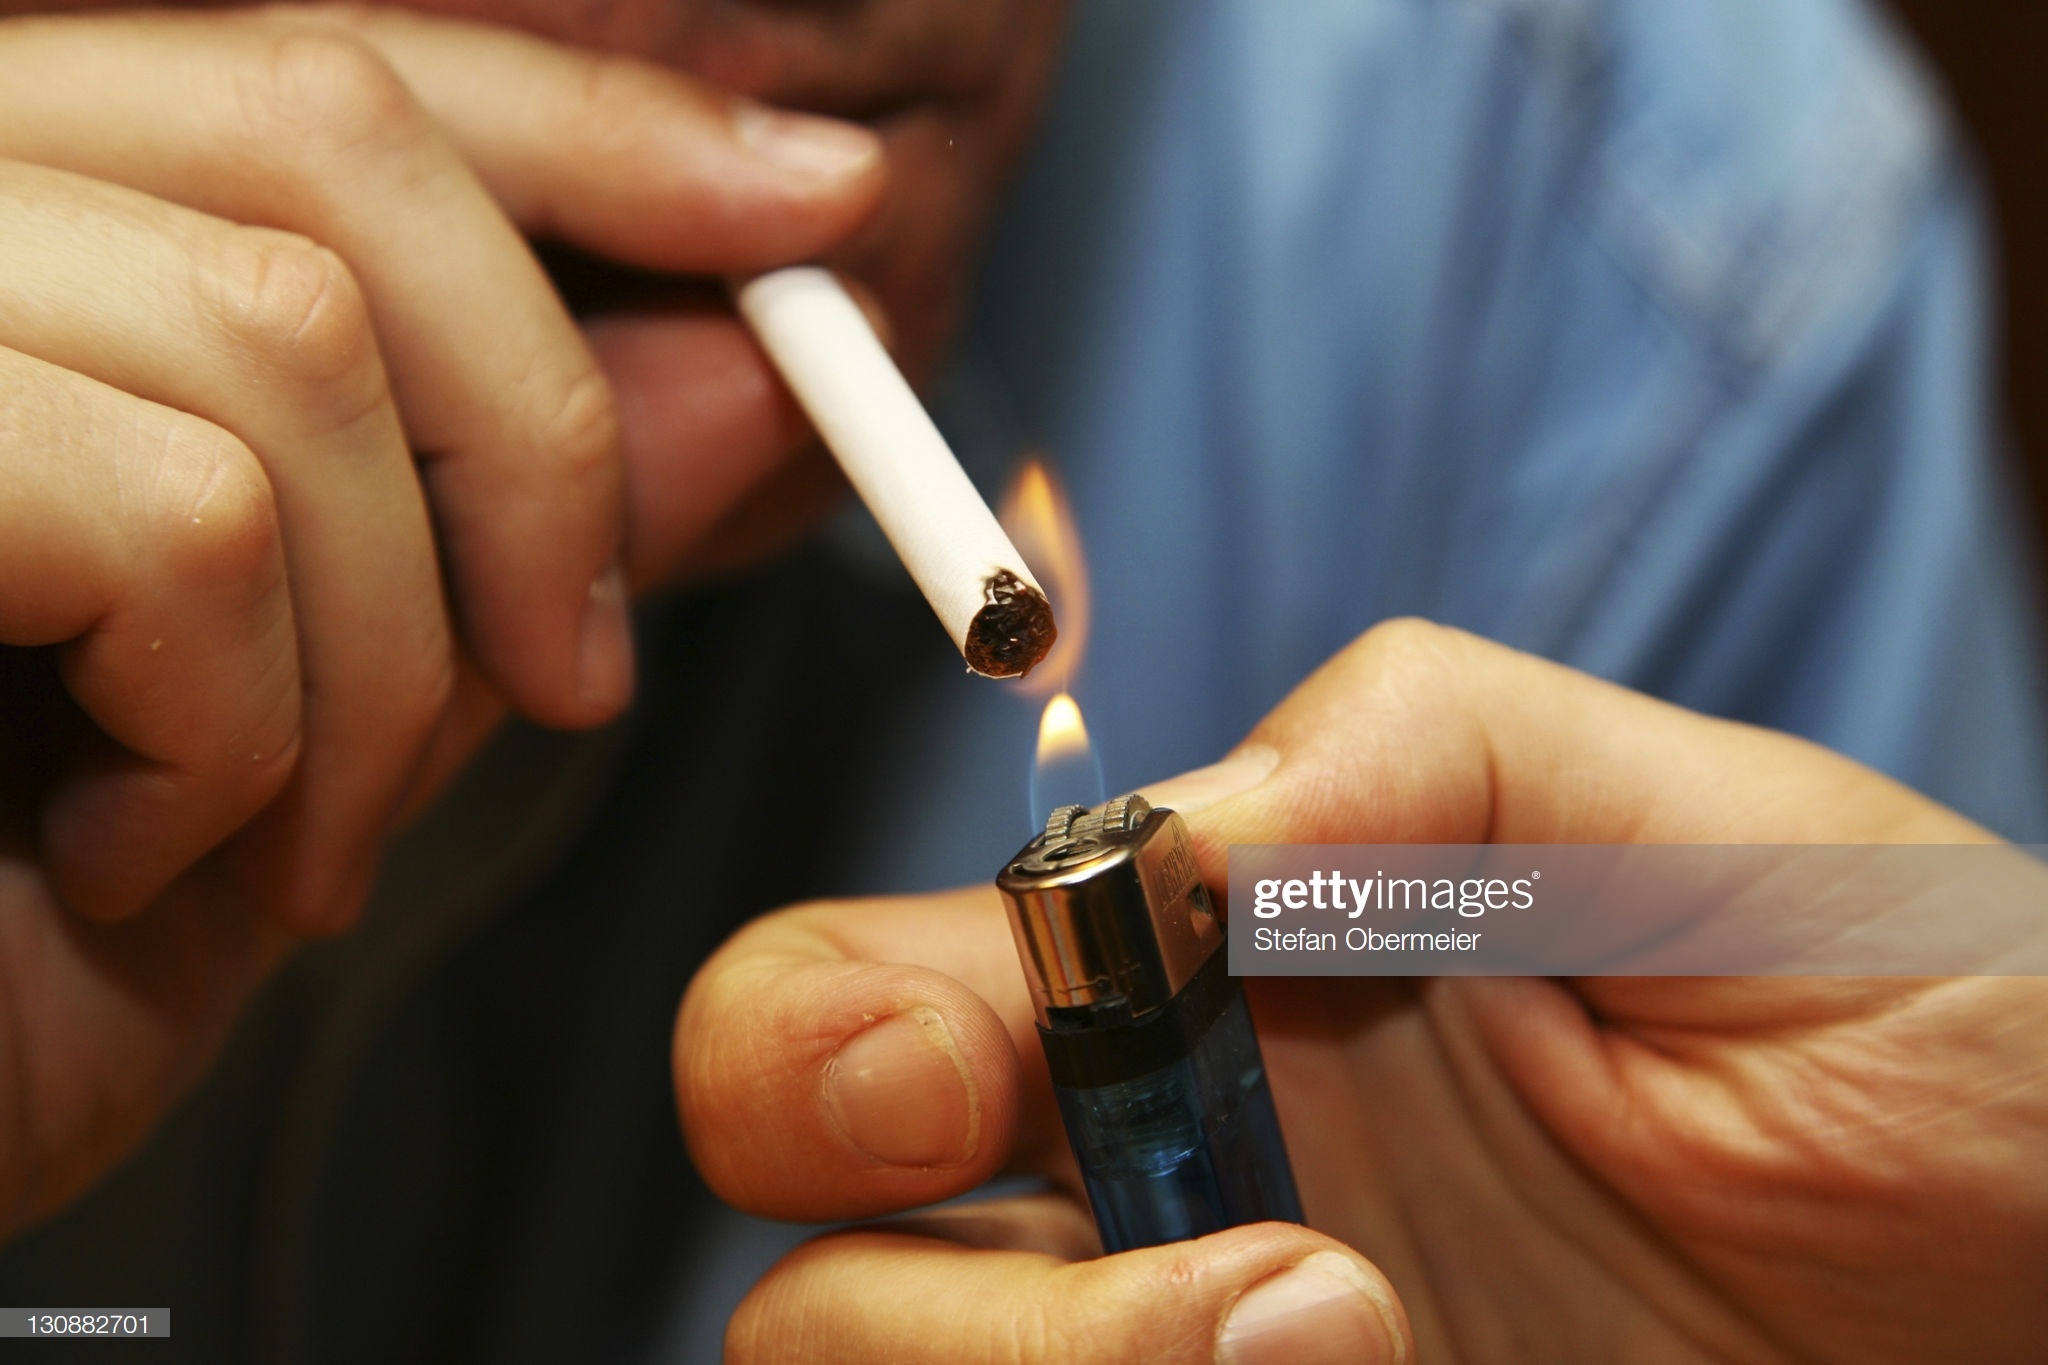sigaretta: (735, 209, 1045, 702)
